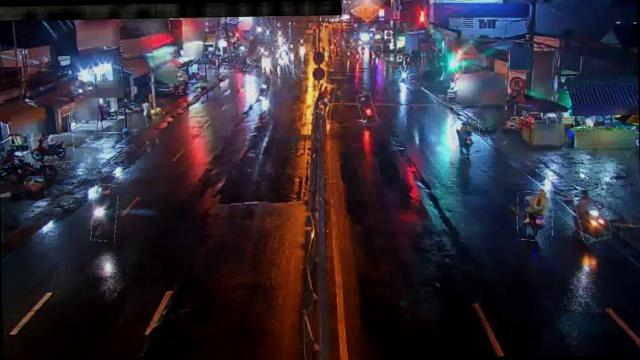Bike: (576, 185, 610, 241), (516, 192, 553, 241), (91, 184, 118, 241), (29, 135, 74, 164), (449, 122, 482, 158), (314, 83, 335, 113), (358, 93, 377, 125), (259, 74, 272, 100), (399, 66, 409, 86)
